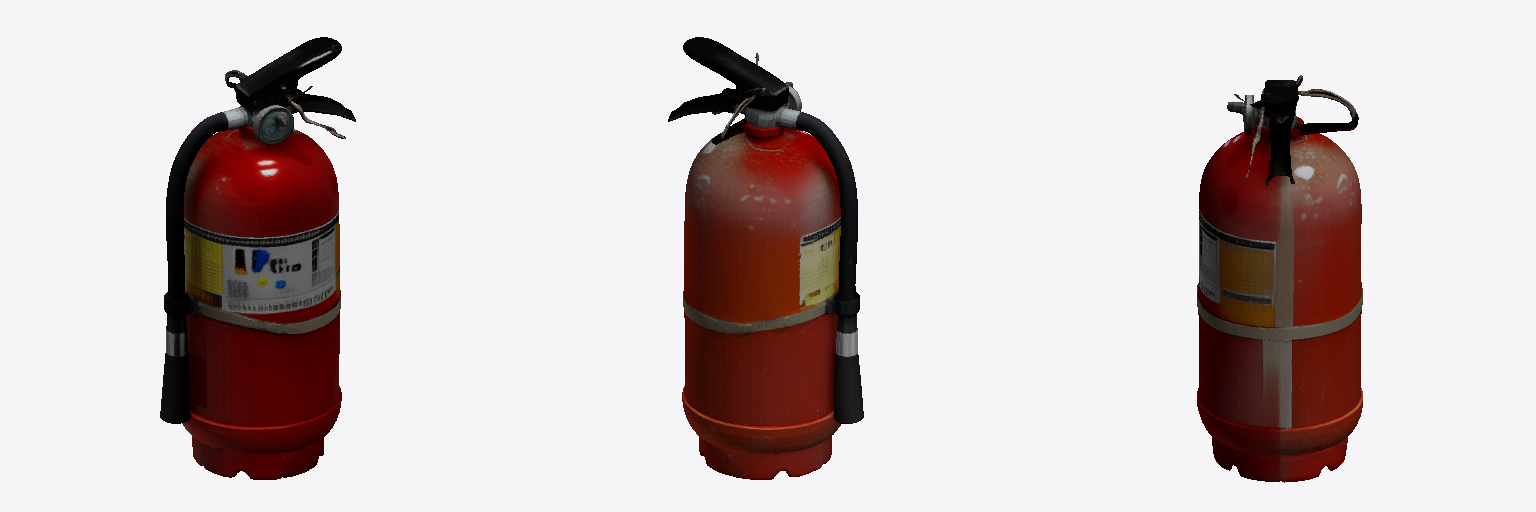
3 renders of one model, left to right at view 1: azimuth 30°, elevation 25°; view 2: azimuth 150°, elevation 25°; view 3: azimuth 270°, elevation 25°, orthographic.
Parts seen in each view (by area): view 1: geometry_0; view 2: geometry_0; view 3: geometry_0.
Boxes of the visible parts, box(x1,y1,x2,y2) form: geometry_0: box(160, 37, 355, 479); geometry_0: box(668, 37, 863, 479); geometry_0: box(1197, 75, 1362, 482).
Bounding box in the file's own units: 0.4935 × 0.9992 × 0.3819.
1 materials, 1 textured.